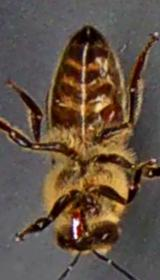varroa_mite: (86, 101, 135, 127)
